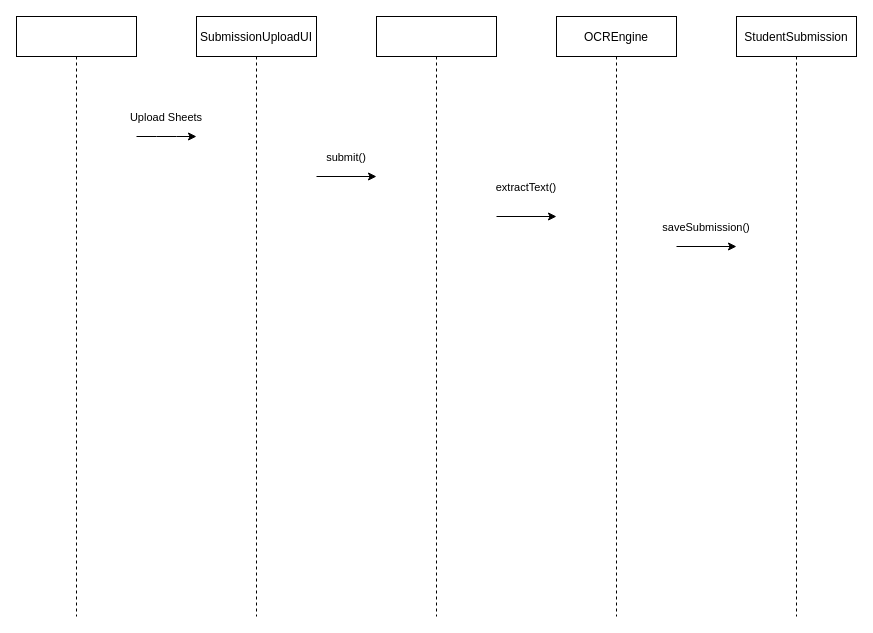
The diagram is 873 pixels wide and 633 high, and some of its shapes have lost their labels. Each missing label, with the box of its shape:
SubmissionController: (376, 16, 496, 616)
Teacher: (16, 16, 136, 616)
